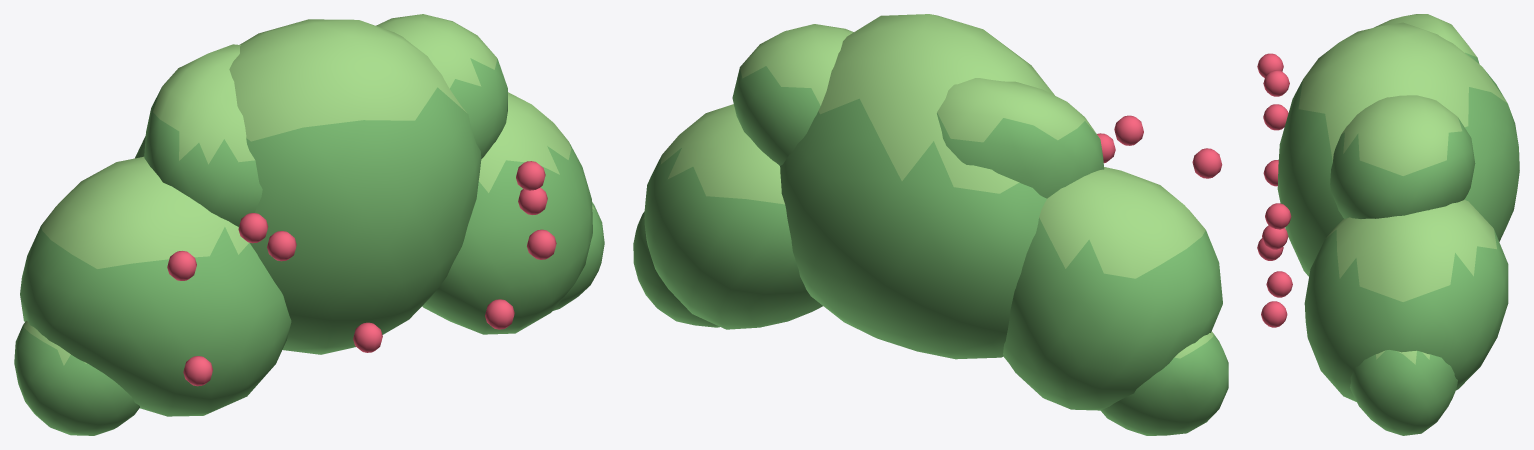
Rendered from bush.glb.
3 renders of one model, left to right at view 1: azimuth 30°, elevation 25°; view 2: azimuth 150°, elevation 25°; view 3: azimuth 270°, elevation 25°, orthographic. The views are drawn at different scales.
Parts seen in each view (by area): view 1: bush; view 2: bush; view 3: bush.
Part boxes in pixels (<box>): bush: <box>14,14,604,435</box>; bush: <box>633,14,1228,435</box>; bush: <box>1257,14,1519,435</box>.
Bounding box in the file's own units: 1.1 × 0.622 × 0.4938.
